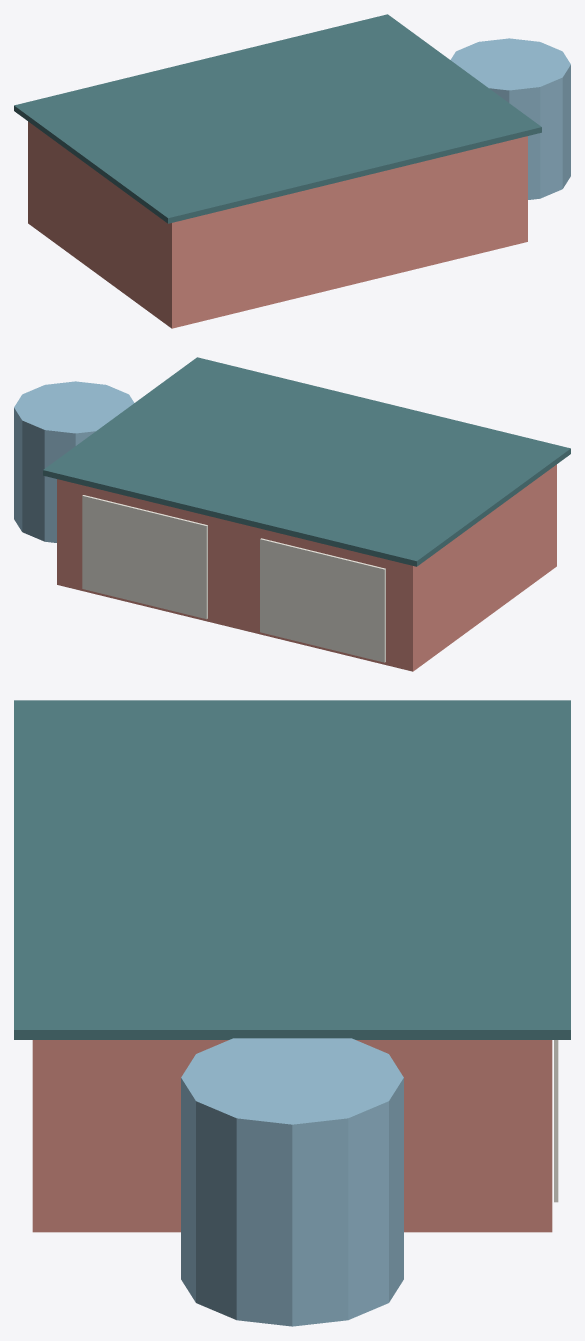
Rendered from fire_response_station.glb.
3 renders of one model, top to bottom at view 1: azimuth 30°, elevation 25°; view 2: azimuth 150°, elevation 25°; view 3: azimuth 270°, elevation 25°, orthographic. The views are drawn at different scales.
Visible parts, largest first — view 1: fire_response_station__roof, fire_response_station__station, fire_response_station__water_reservoir; view 2: fire_response_station__roof, fire_response_station__station, fire_response_station__bay_door, fire_response_station__bay_door.001, fire_response_station__water_reservoir; view 3: fire_response_station__roof, fire_response_station__water_reservoir, fire_response_station__station, fire_response_station__bay_door.001.
Boxes of the visible parts, x1,y1,x2,y2 form: fire_response_station__roof: (14, 14, 541, 223); fire_response_station__station: (28, 121, 527, 328); fire_response_station__water_reservoir: (450, 38, 570, 199); fire_response_station__roof: (43, 357, 570, 566); fire_response_station__station: (57, 464, 556, 671); fire_response_station__bay_door: (260, 538, 385, 662); fire_response_station__bay_door.001: (82, 495, 207, 619); fire_response_station__water_reservoir: (14, 381, 134, 542); fire_response_station__roof: (14, 700, 570, 1039); fire_response_station__water_reservoir: (181, 1038, 403, 1326); fire_response_station__station: (32, 1040, 552, 1232); fire_response_station__bay_door.001: (554, 1040, 558, 1202).
Bounding box in the file's own units: 26.5 × 6.25 × 15.
